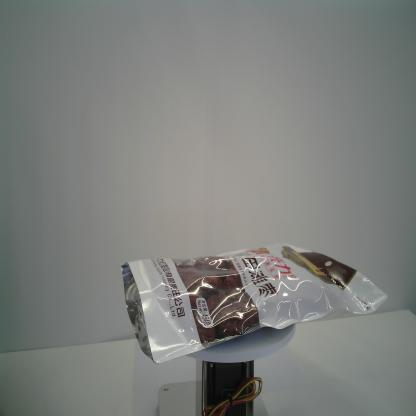Dried Food: (119, 239, 394, 365)
